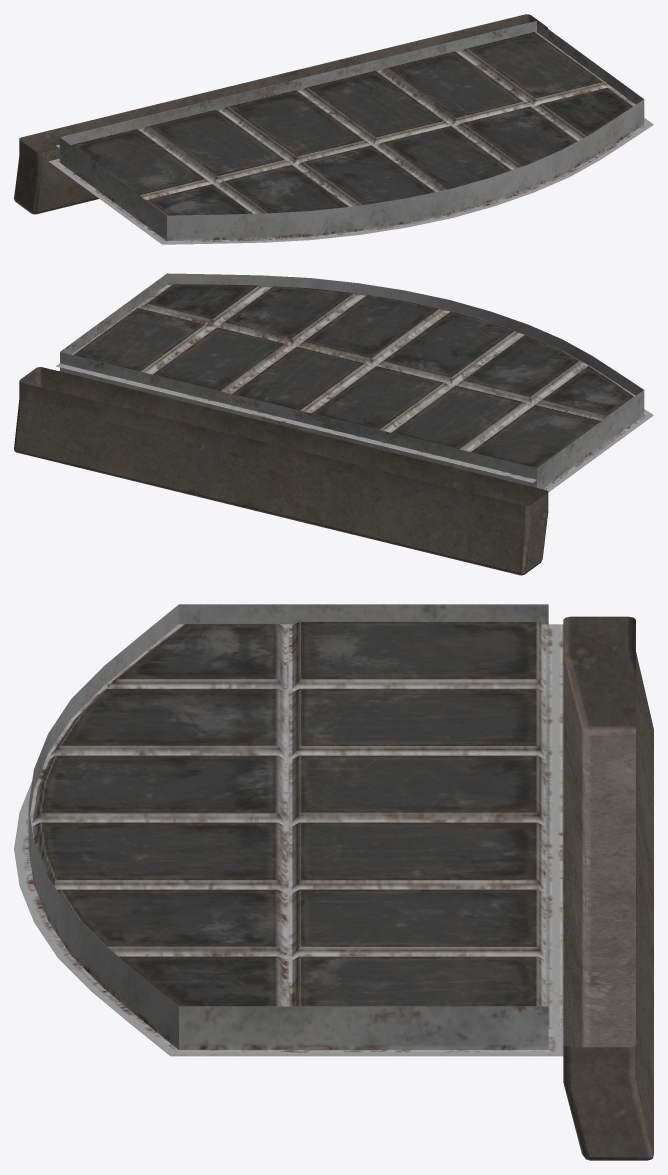
File: window_centered_medium_04.gltf
3 renders of one model, top to bottom at view 1: azimuth 30°, elevation 25°; view 2: azimuth 150°, elevation 25°; view 3: azimuth 270°, elevation 25°, orthographic. The views are drawn at different scales.
Parts seen in each view (by area): view 1: window_centered_medium_04; view 2: window_centered_medium_04; view 3: window_centered_medium_04.
Part boxes in pixels (x1,y1,x2,y2): window_centered_medium_04: (14,14,653,244); window_centered_medium_04: (14,273,653,575); window_centered_medium_04: (14,604,653,1160).
Bounding box in the file's own units: 1.4 × 0.2167 × 0.8796.
Materials: 2 (2 with a texture image).
